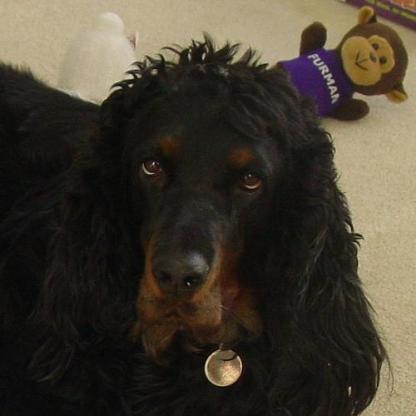Gordon_setter: (0, 29, 393, 414)
